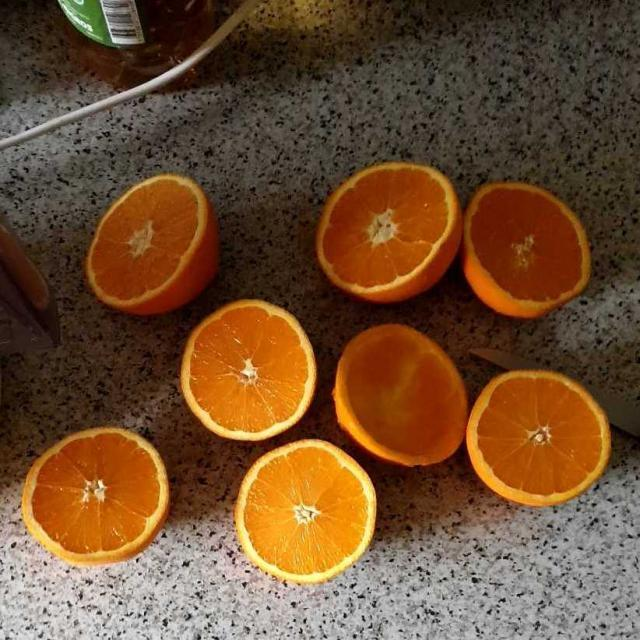orange: (0, 163, 619, 585)
